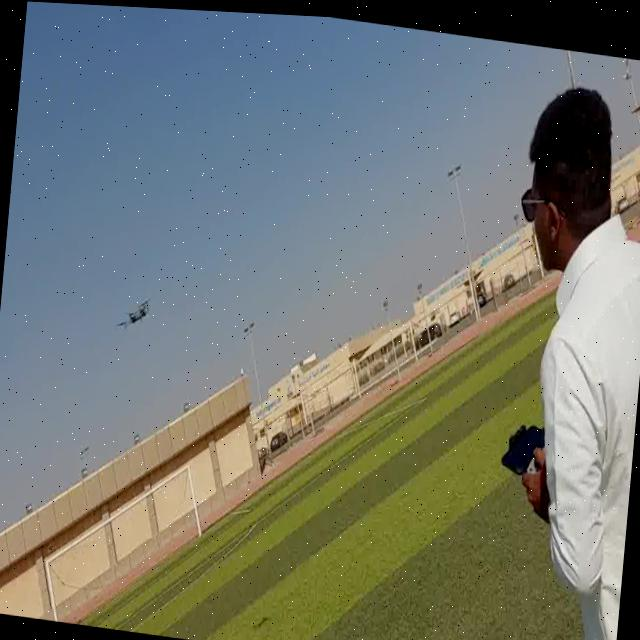drone: (116, 288, 153, 335)
